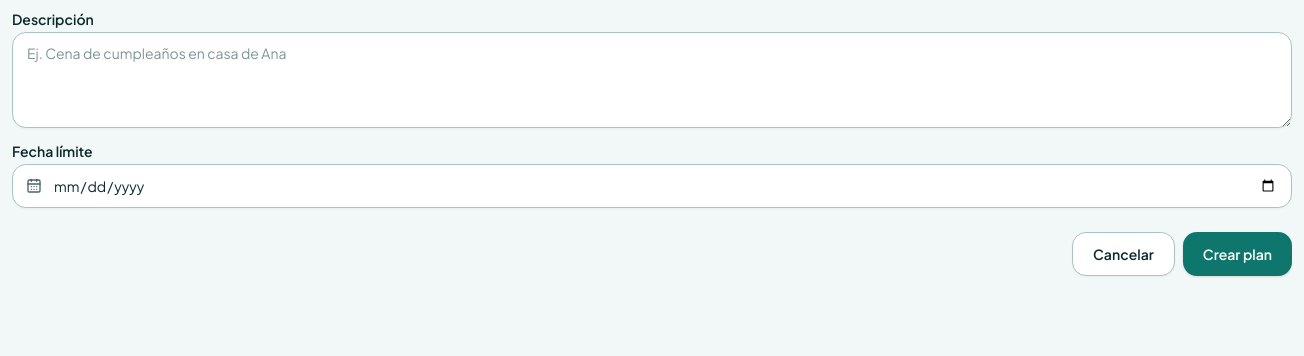
Test: PlanForm › shows a general alert for network failures and keeps values
Type "Cena" into the text box labelled "Descripción".
click(652, 80); type("Cena")  # box [12,32,1292,128]
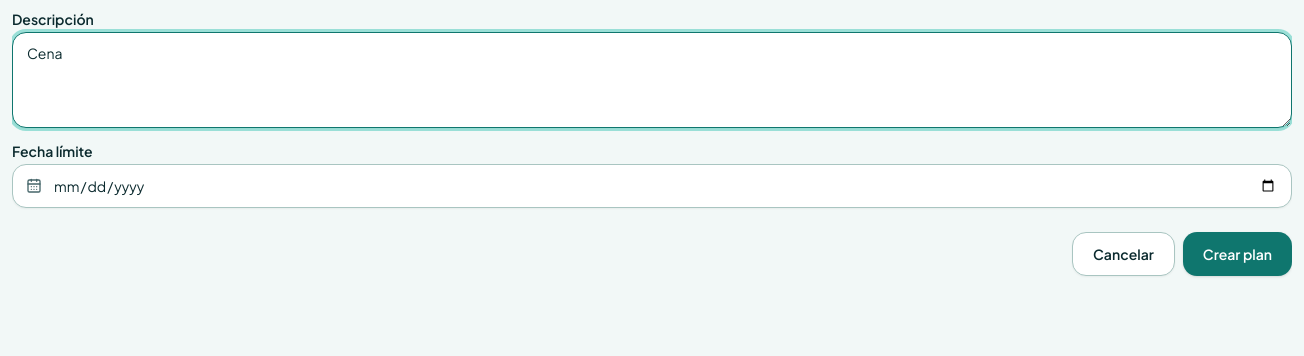
Type "2026-12-24" into the date field labelled "Fecha límite".
click(652, 186); type("2026-12-24")  # box [12,164,1292,208]
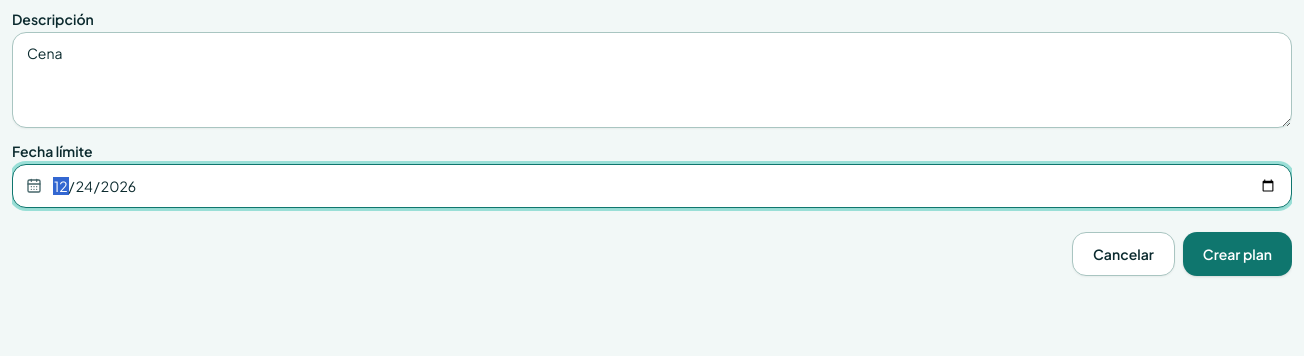
Click the button "Crear plan".
click(1237, 254)  # box [1183,232,1292,276]
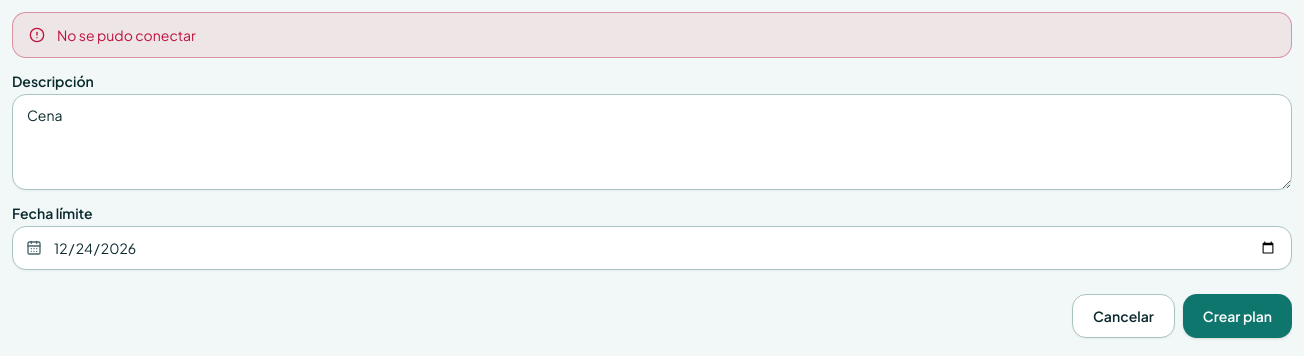
Check: the message reads "No se pudo conectar", box [57,26,196,44]
